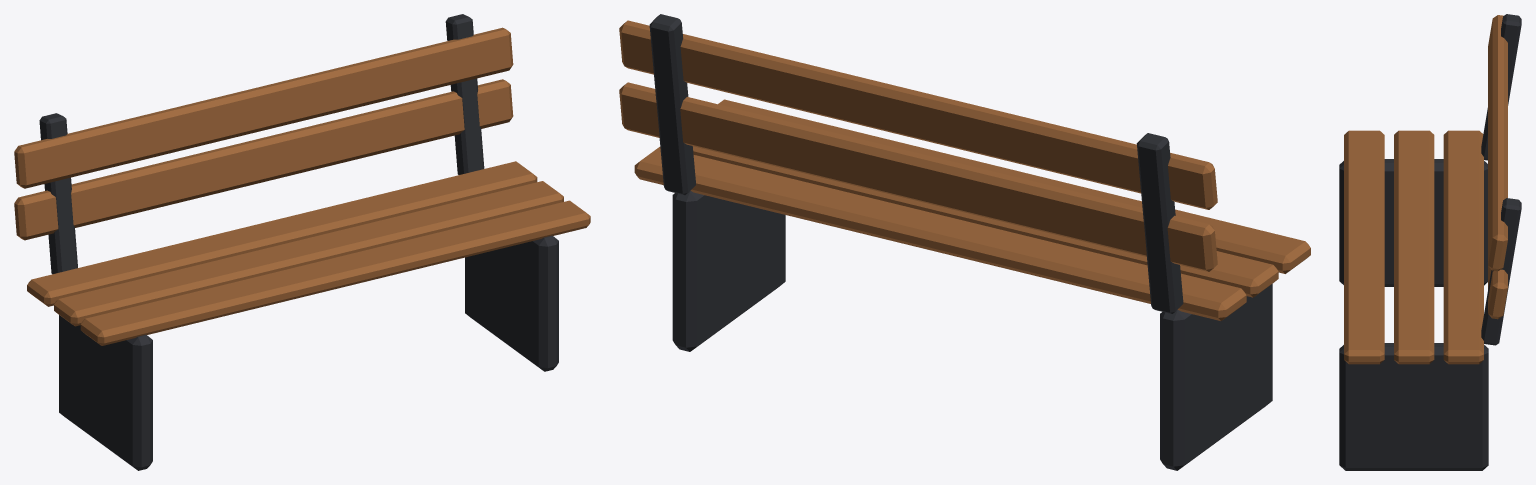
Rendered from banco.glb.
3 renders of one model, left to right at view 1: azimuth 30°, elevation 25°; view 2: azimuth 150°, elevation 25°; view 3: azimuth 270°, elevation 25°, orthographic. The views are drawn at different scales.
Parts seen in each view (by area): view 1: banco_00, banco_01; view 2: banco_00, banco_01; view 3: banco_00, banco_01.
Part boxes in pixels (x1,y1,x2,y2): banco_00: (14, 27, 590, 345); banco_01: (39, 14, 558, 470); banco_00: (619, 20, 1310, 320); banco_01: (649, 14, 1272, 470); banco_00: (1344, 15, 1507, 364); banco_01: (1339, 14, 1521, 470).
Size of the model in its own units: 1.7 by 0.9502 by 0.5855.
